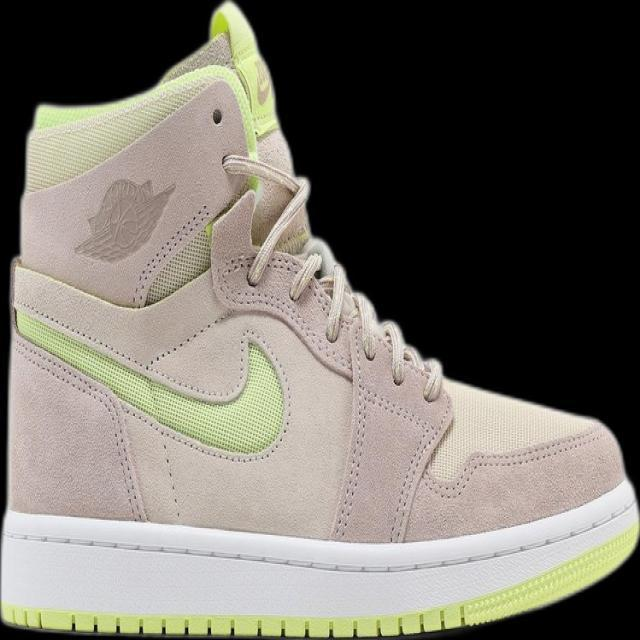J1_InsoleChar: (1, 1, 638, 638)
J1_ShoeLogo: (18, 70, 260, 308), (72, 176, 176, 263)
J1_StitchPattern: (14, 149, 457, 544), (217, 151, 446, 403), (283, 240, 450, 541), (3, 498, 636, 577), (11, 302, 288, 461), (11, 325, 151, 522), (284, 245, 444, 401), (425, 421, 612, 502), (219, 151, 313, 287), (327, 313, 373, 541), (131, 201, 214, 307), (386, 413, 451, 544), (286, 249, 350, 341), (286, 250, 324, 301)
